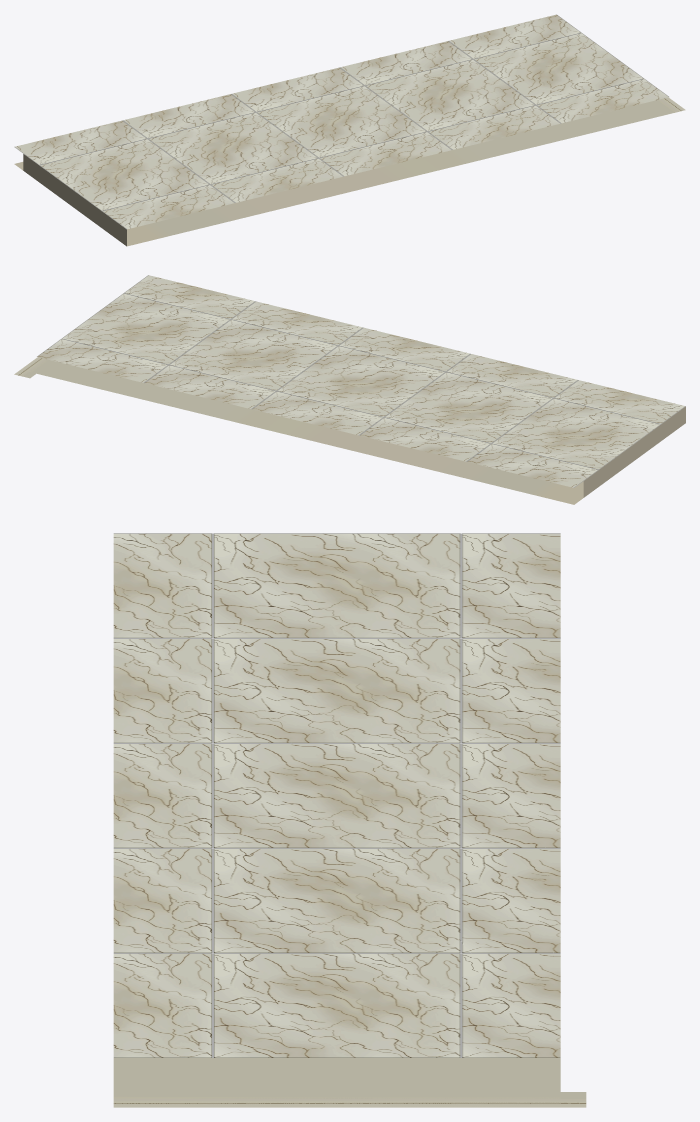
Rendered from FrontRight2ndFloor3.obj.
3 renders of one model, top to bottom at view 1: azimuth 30°, elevation 25°; view 2: azimuth 150°, elevation 25°; view 3: azimuth 270°, elevation 25°, orthographic. The views are drawn at different scales.
Parts seen in each view (by area): view 1: Box011; view 2: Box011; view 3: Box011.
Part boxes in pixels (bbox=[...]): Box011: bbox=[14, 14, 685, 246]; Box011: bbox=[14, 275, 685, 504]; Box011: bbox=[113, 533, 586, 1107].
Bounding box in the file's own units: 406 × 11.81 × 150.
